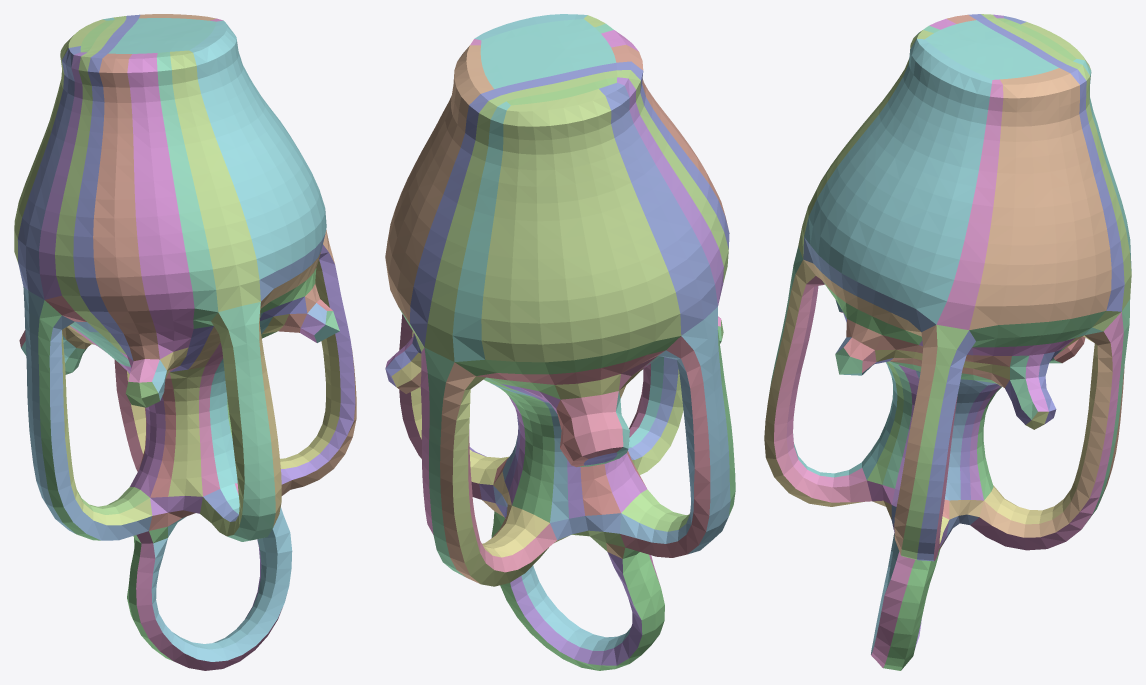
The model's file is botijo1_patch_color.obj.
3 views of the same model, side by side, from view 1: azimuth 30°, elevation 25°; view 2: azimuth 150°, elevation 25°; view 3: azimuth 270°, elevation 25° (orthographic). The views are drawn at different scales.
Bounding box in the file's own units: 146 × 281 × 151.
